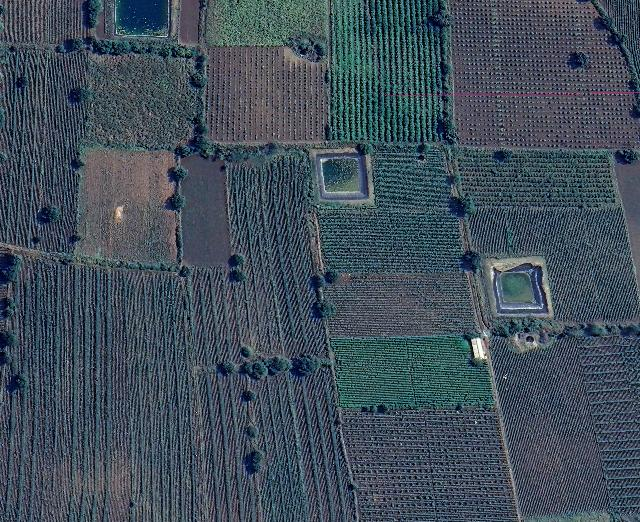EmptyFarms: (184, 152, 228, 268)
Farms: (1, 147, 355, 522), (455, 0, 640, 151), (486, 326, 610, 521), (0, 0, 92, 249), (464, 207, 640, 323), (349, 410, 515, 522), (334, 0, 456, 147), (319, 150, 466, 269), (334, 335, 501, 413), (75, 144, 180, 264), (208, 45, 331, 145), (88, 48, 204, 152), (581, 328, 640, 522), (329, 271, 478, 337), (456, 150, 621, 209), (203, 0, 330, 45)
water: (318, 147, 374, 205), (494, 265, 548, 318), (112, 0, 177, 42)
